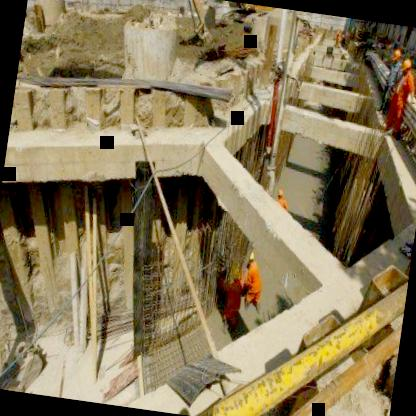helmet: (400, 53, 416, 75), (388, 45, 404, 67)
